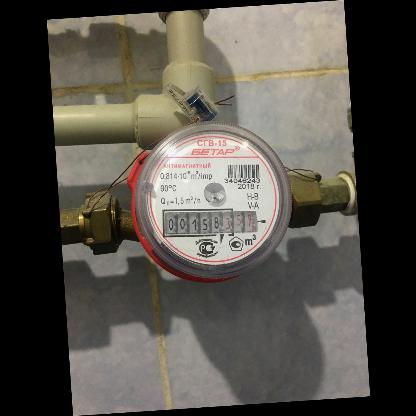digital_screen: (159, 207, 223, 237)
